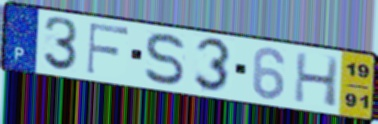3: (190, 37, 237, 95), (41, 16, 80, 73)
6: (251, 45, 287, 102)
F: (84, 22, 131, 77)
H: (292, 50, 342, 109)
S: (142, 31, 187, 88)
